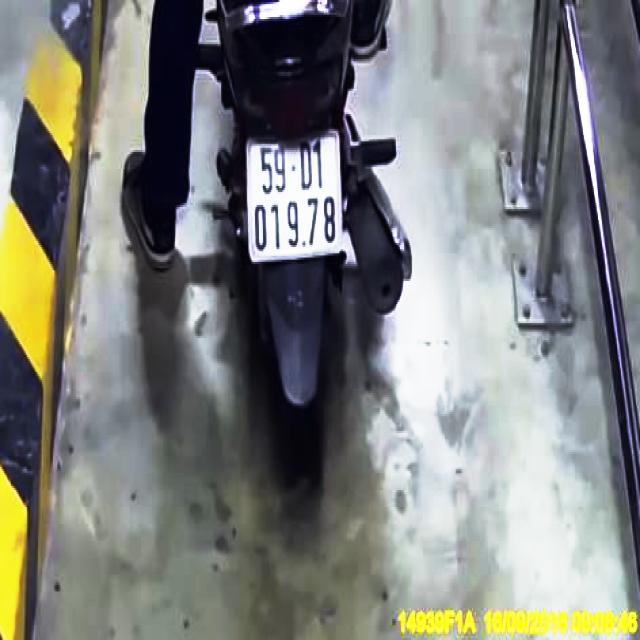license_plate: (250, 135, 345, 265)
